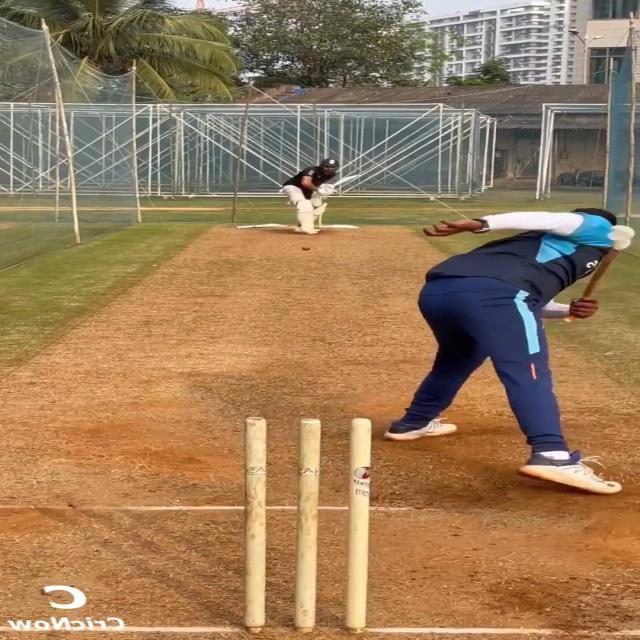ball: (302, 246, 310, 251)
stump: (241, 416, 373, 634)
